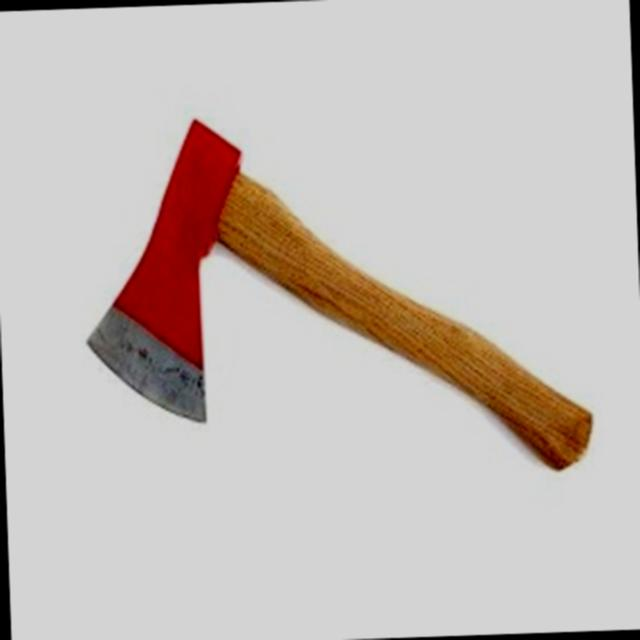ax: (71, 90, 598, 490)
